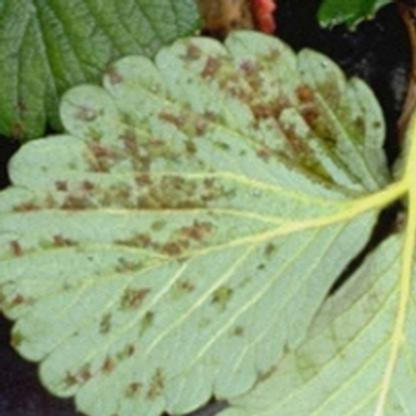Strawberry_Angular_LeafSpot: (0, 29, 396, 415)
